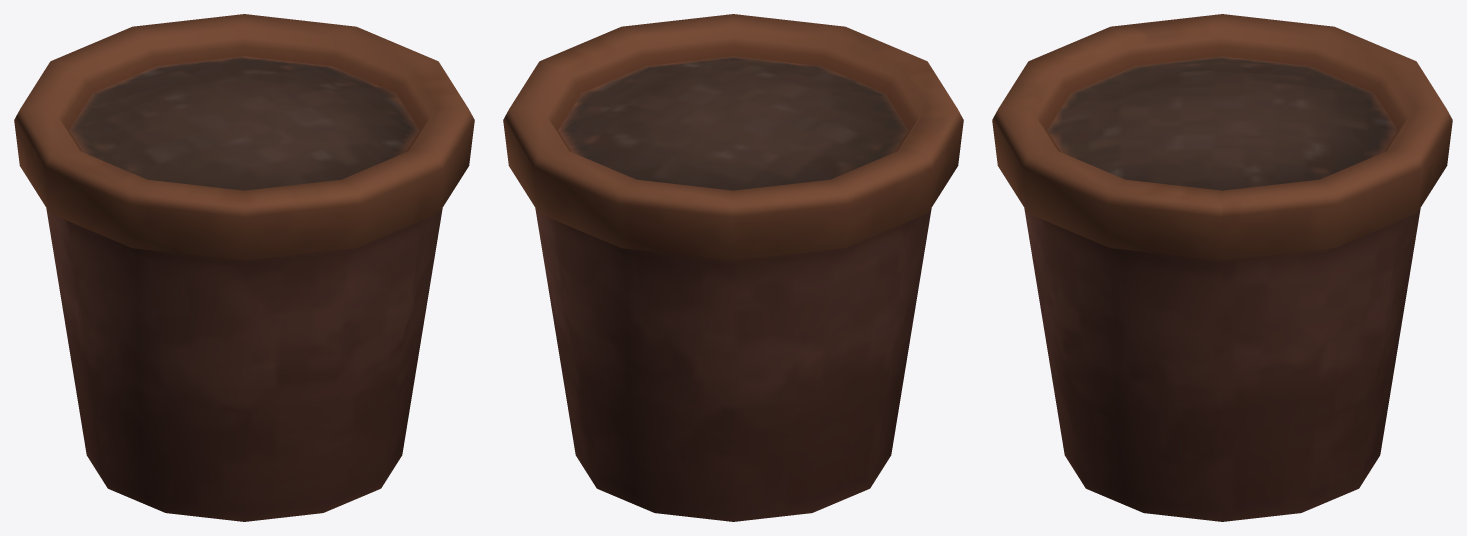
Rendered from objects_un_t04sunflorapot02.gltf.
The picture shows the model from 3 angles, left to right: view 1: azimuth 30°, elevation 25°; view 2: azimuth 150°, elevation 25°; view 3: azimuth 270°, elevation 25°; orthographic projection.
Parts seen in each view (by area): view 1: um_objects_un_t04sunflorapot02_model_lod0Shape:objects_un_t0; view 2: um_objects_un_t04sunflorapot02_model_lod0Shape:objects_un_t0; view 3: um_objects_un_t04sunflorapot02_model_lod0Shape:objects_un_t0.
Boxes of the visible parts, x1,y1,x2,y2 form: um_objects_un_t04sunflorapot02_model_lod0Shape:objects_un_t0: (14, 14, 474, 521); um_objects_un_t04sunflorapot02_model_lod0Shape:objects_un_t0: (503, 14, 963, 521); um_objects_un_t04sunflorapot02_model_lod0Shape:objects_un_t0: (992, 14, 1452, 521).
Size of what is drawn, in the model's own units: 0.7544 by 0.6262 by 0.7544.
Materials: 2 (1 with a texture image).
